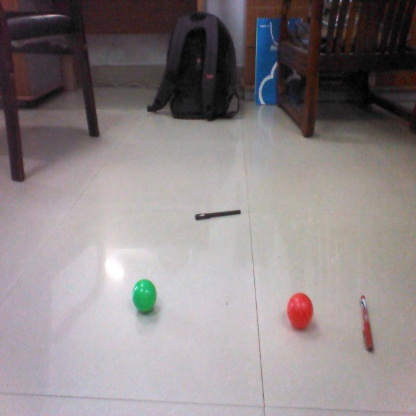ball: (127, 280, 162, 314), (286, 292, 315, 328)
pen: (357, 294, 379, 351), (196, 208, 243, 221)
